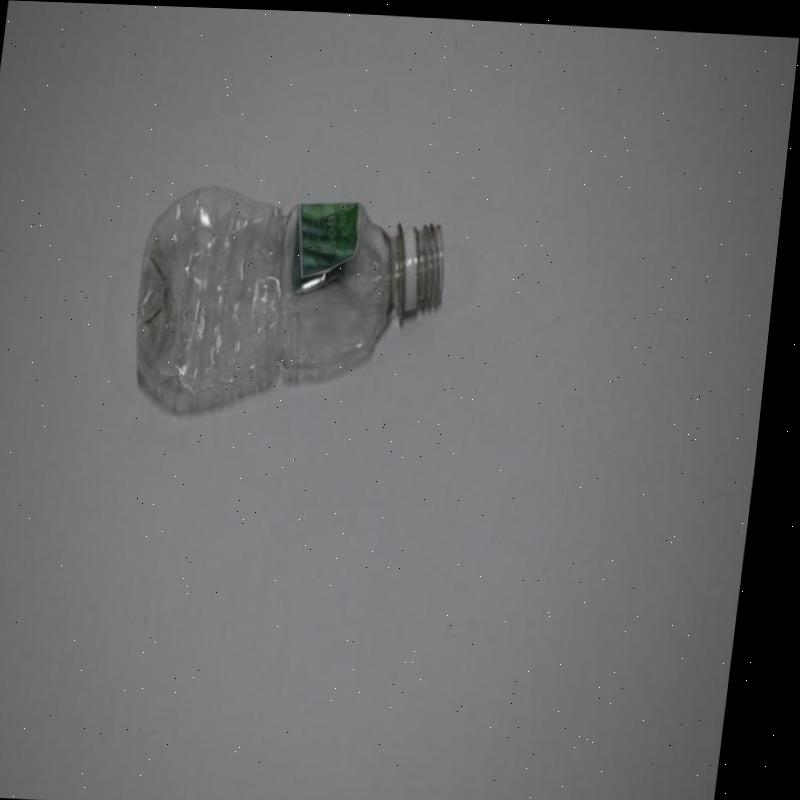botella: (129, 177, 459, 427)
